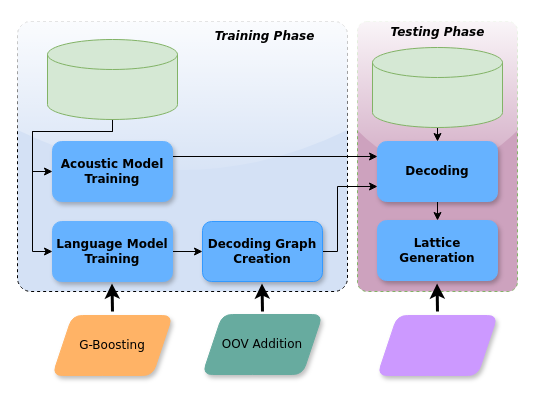
The diagram is 535 pixels wide and 400 high, and some of its shapes have lost their labels. The centre of each missing label's shape, as x and y in pixels:
Lattice Rescoring: the point at 438,346
Test Data: the point at 437,87
Training Data: the point at 112,79
